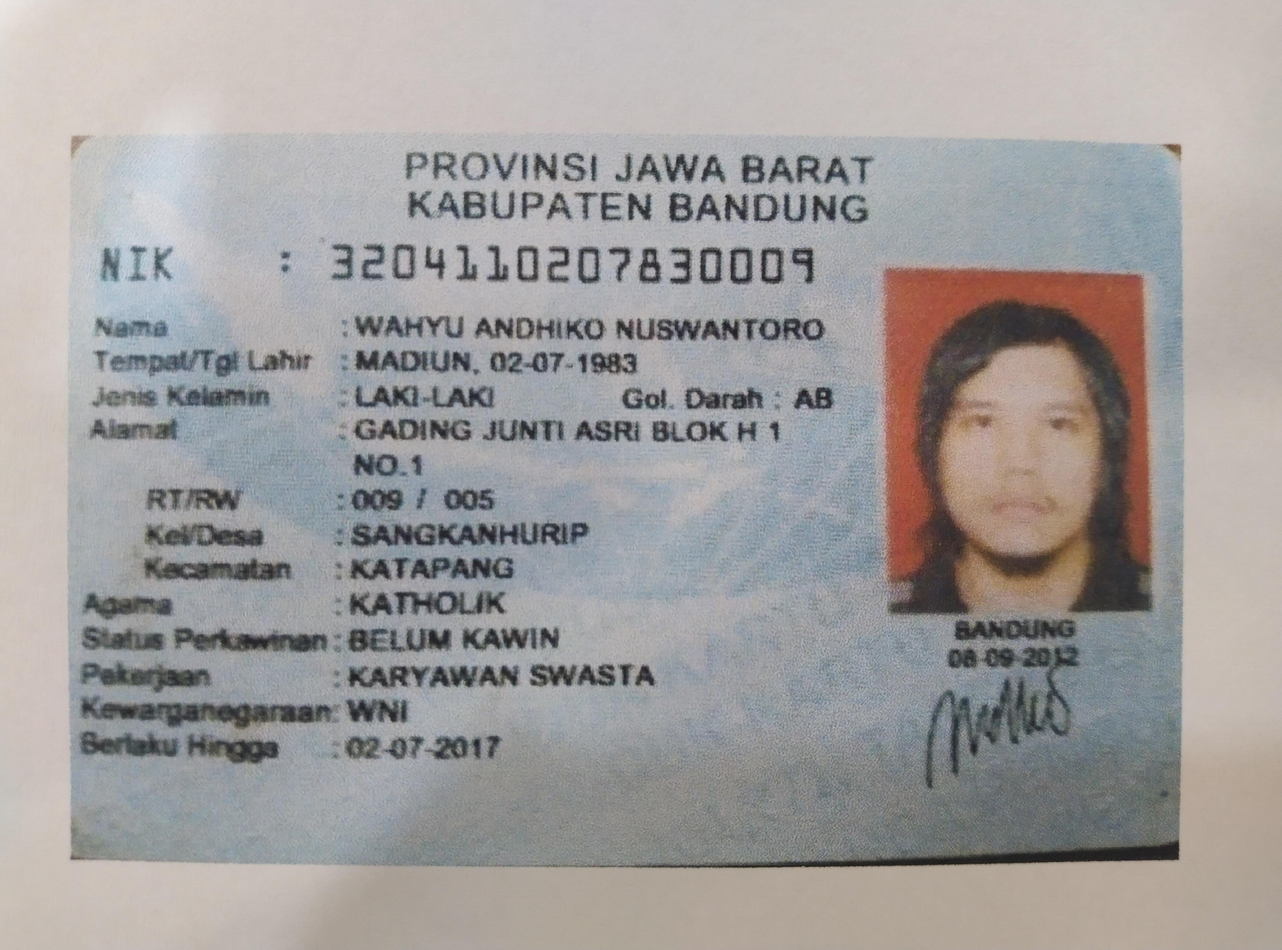ID-card: (68, 136, 1174, 851)
